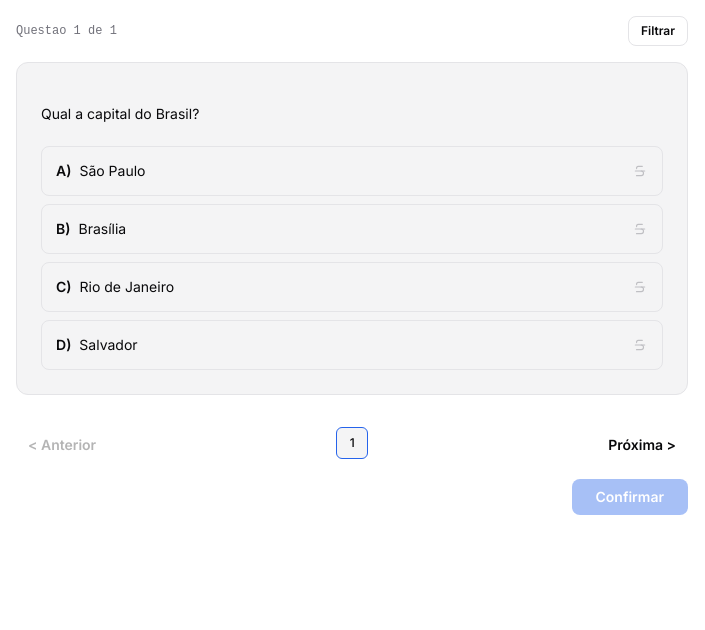
Test: QuestionsTab › displays explanation block when answered
# Answer incorrectly (A)
Click the button "A)São Paulo". click: (112, 170)
box: x1=41 y1=146 x2=663 y2=196
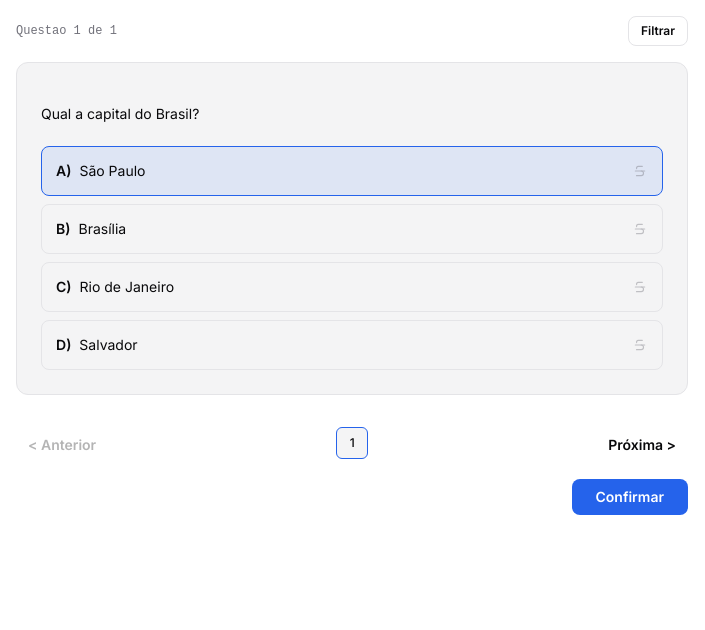
Click the button "Confirmar". click: (630, 497)
box: x1=572 y1=479 x2=688 y2=515
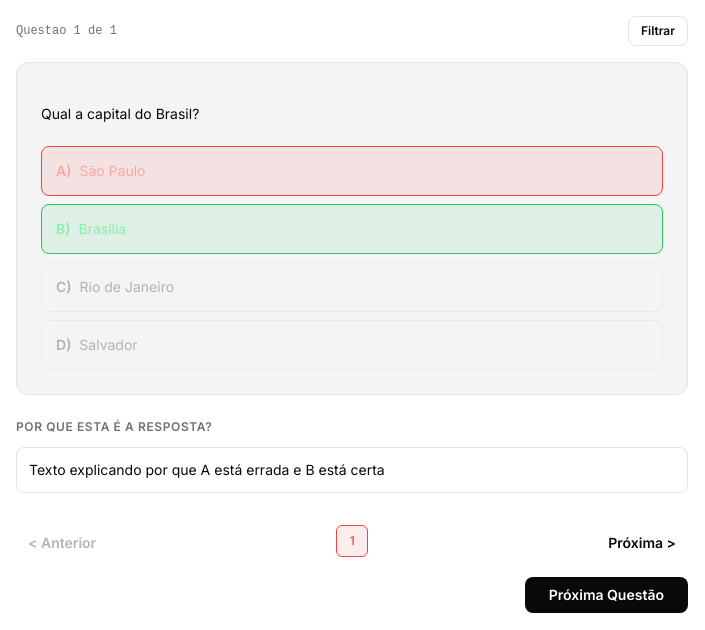
Expected: the text "Texto explicando por que A está errada e B está certa" is shown, x1=29 y1=461 x2=385 y2=478
